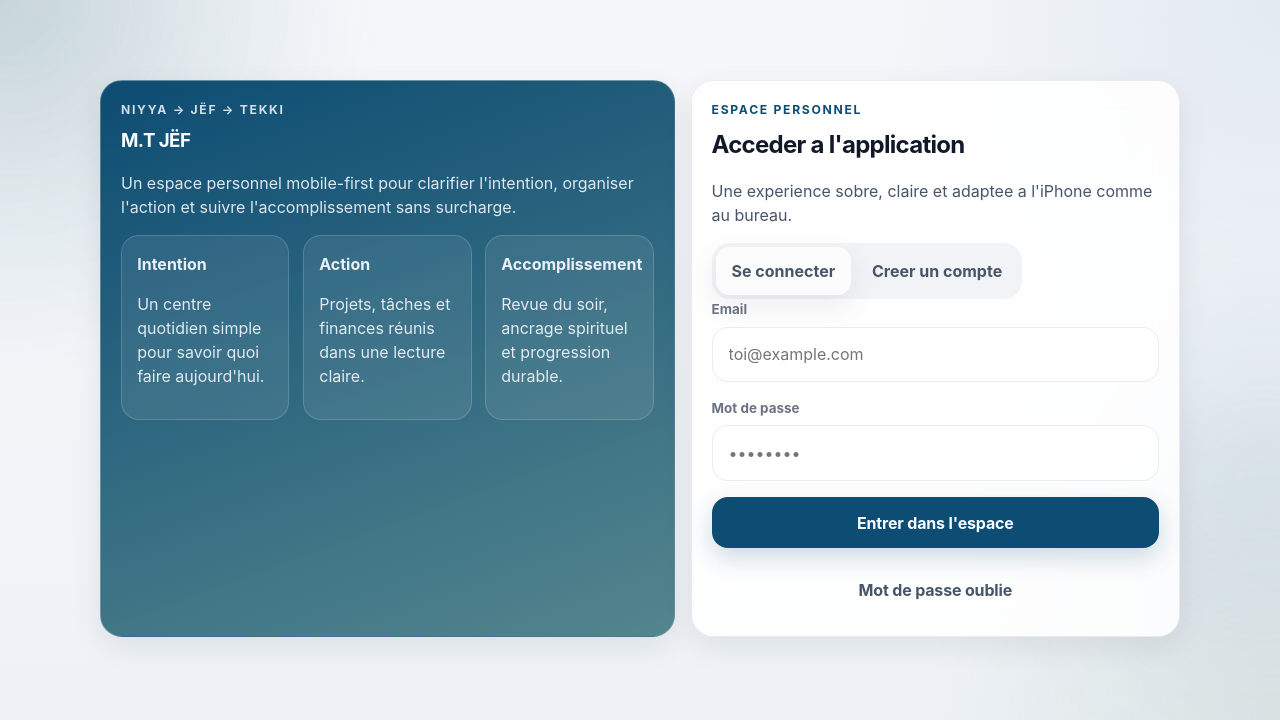
Test: AuthScreen › affiche une erreur visible lorsque signUp echoue
Click the tab "Creer un compte". click: (937, 271)
box: [856,247,1018,295]
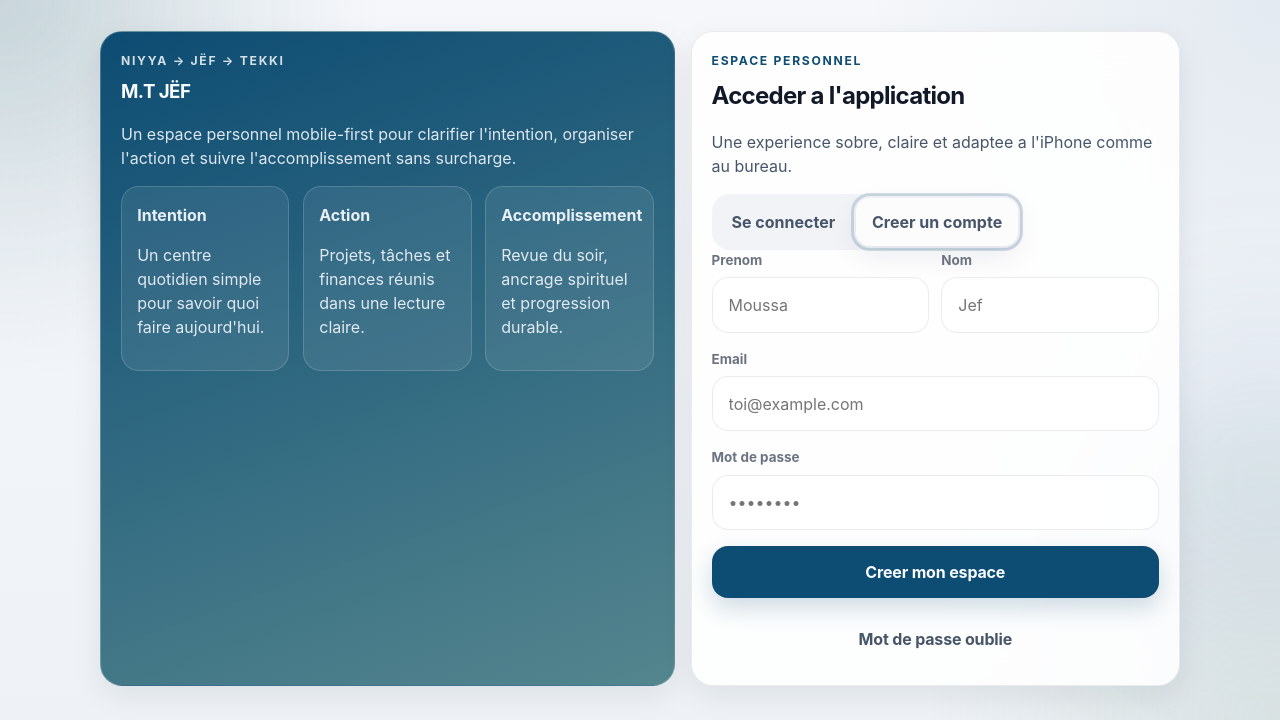
Type "existing@yopmail.com" into the field labelled "Email". click: (935, 404)
box: [712,376,1159,431]
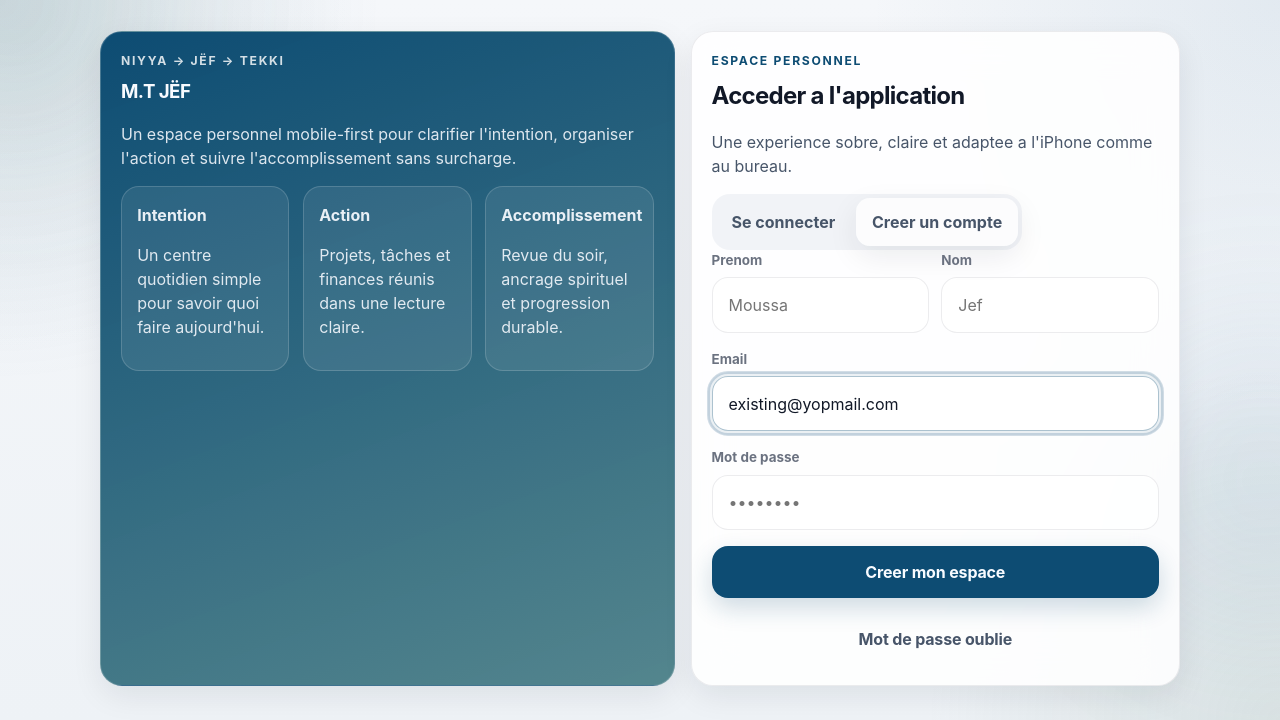
Type "MotDePasse123!" into the password field labelled "Mot de passe". click: (935, 502)
box: [712,475,1159,530]
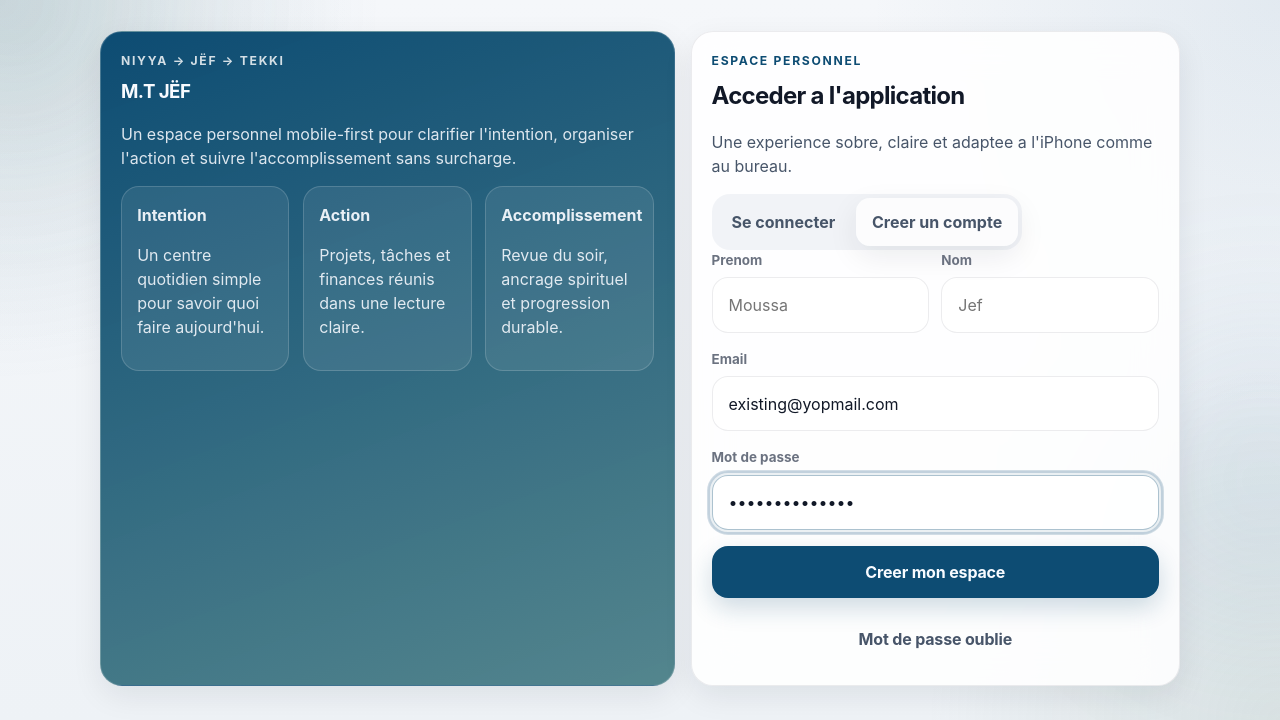
Click the button "Creer mon espace". click: (935, 572)
box: [712,546,1159,598]
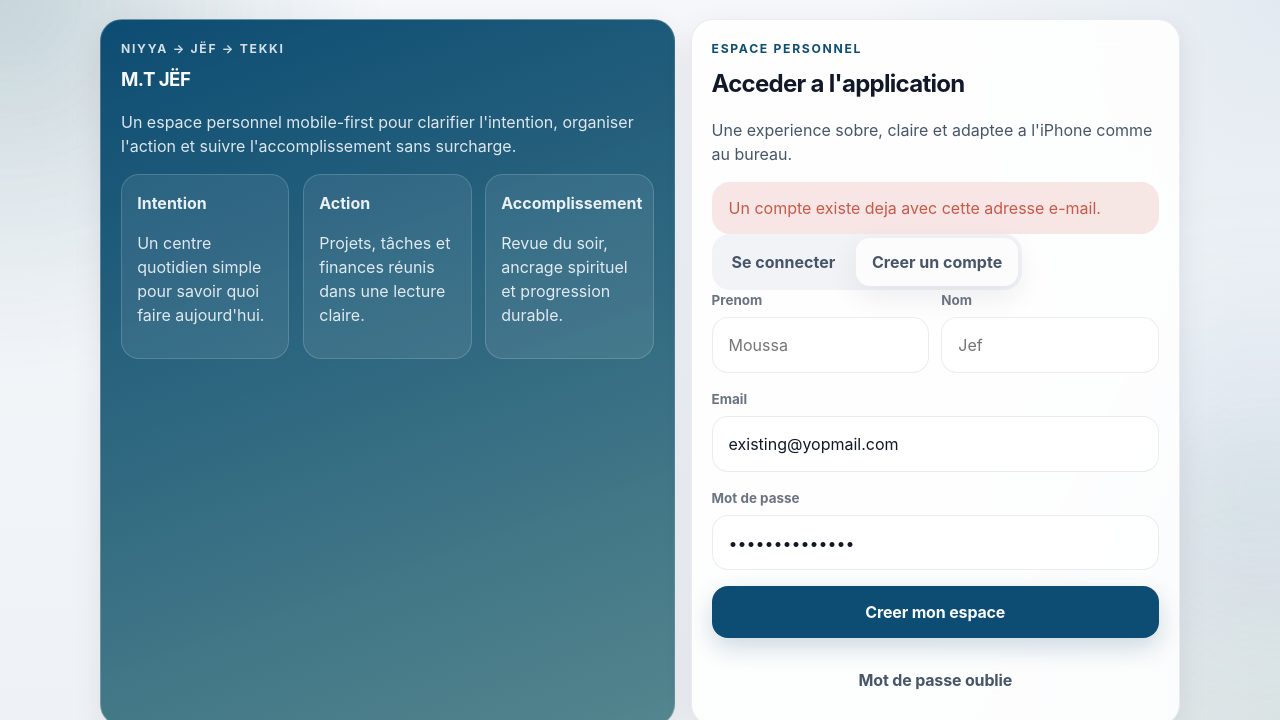
Expected: the text "Un compte existe deja avec cette adresse e-mail." is shown, [712,182,1159,234]
